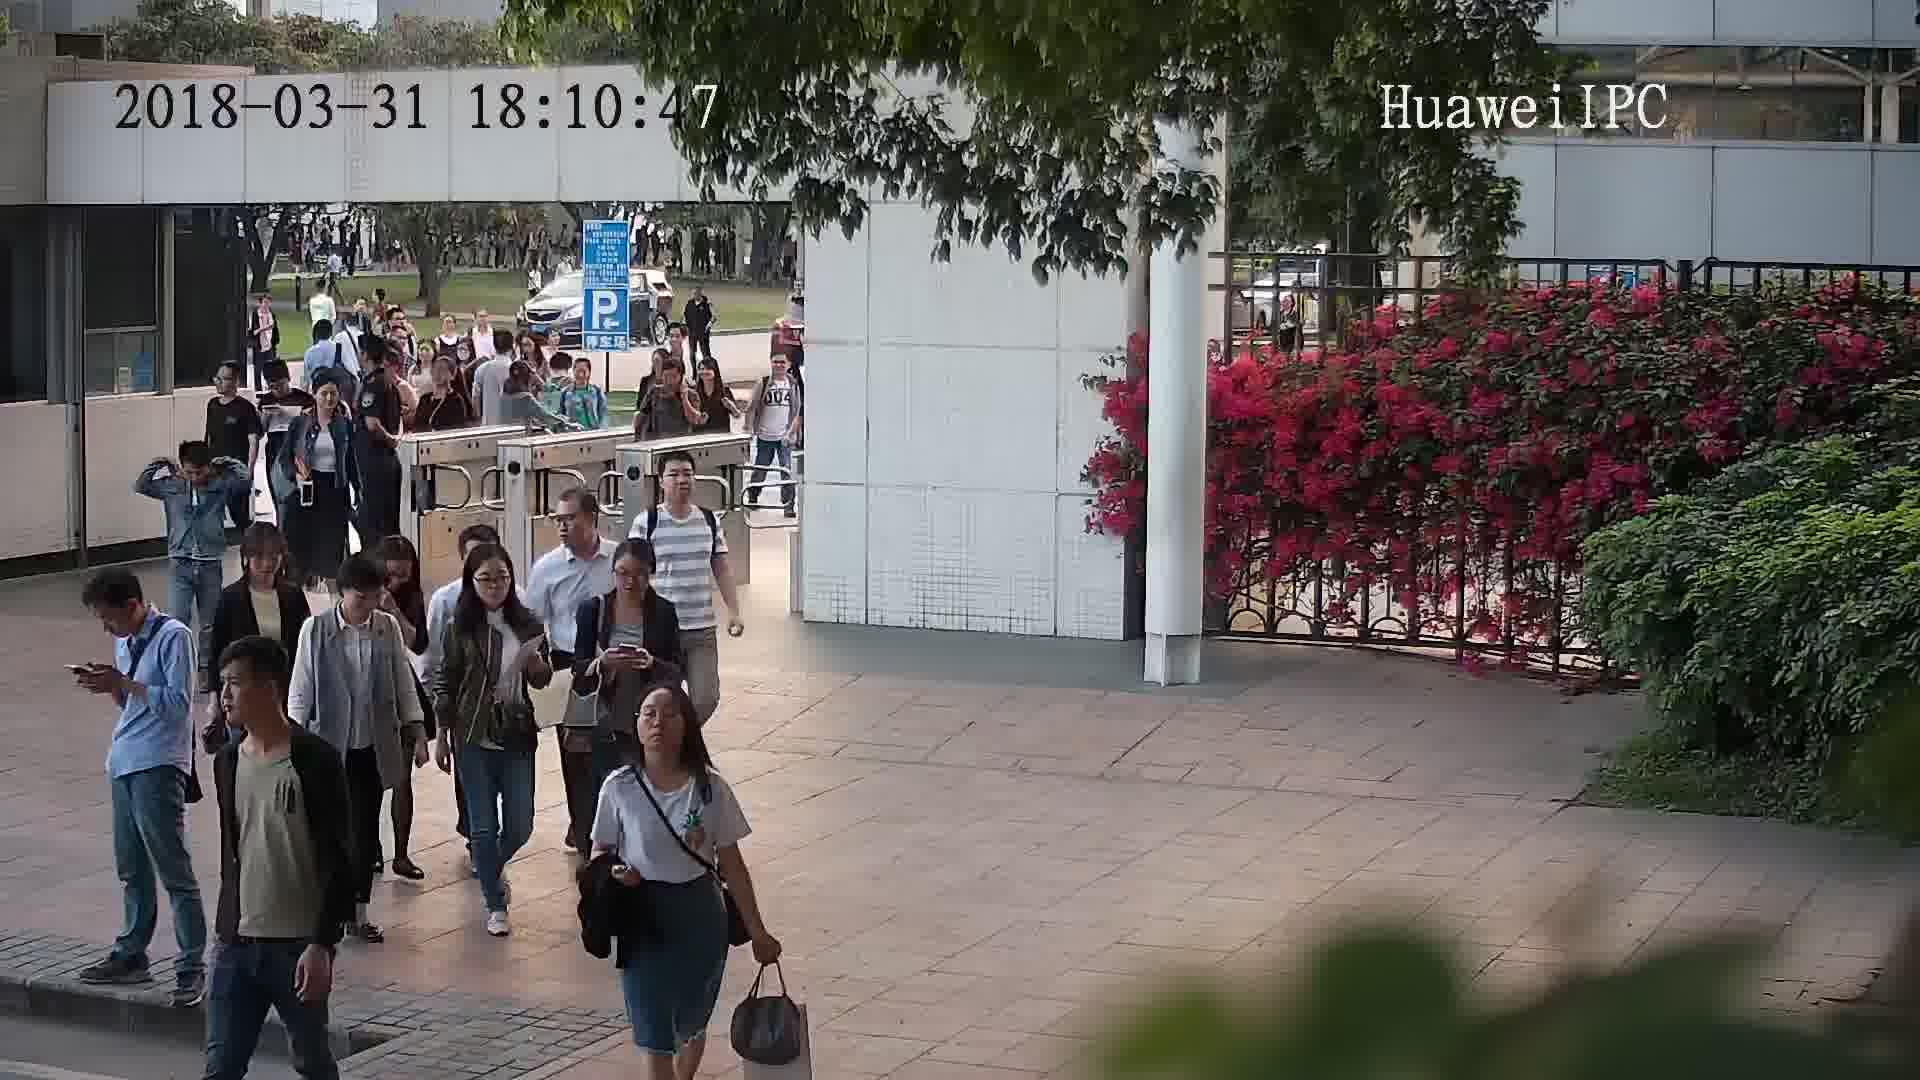face: (209, 659, 275, 725), (630, 690, 694, 754), (651, 454, 703, 511), (468, 557, 516, 605), (611, 555, 655, 599), (91, 597, 134, 640), (347, 580, 383, 616)
person: (216, 638, 337, 786), (596, 678, 727, 802), (432, 528, 548, 645), (299, 555, 405, 657), (87, 564, 190, 666), (214, 521, 308, 621), (584, 532, 677, 626), (533, 485, 615, 585), (631, 450, 717, 536), (352, 527, 424, 616), (164, 435, 238, 509), (205, 355, 259, 422), (302, 370, 355, 437), (258, 355, 314, 415), (359, 334, 403, 401), (639, 354, 689, 407), (421, 354, 466, 412), (304, 313, 350, 369), (756, 344, 803, 394), (557, 353, 603, 403), (476, 328, 517, 383), (655, 318, 695, 369), (693, 354, 733, 404), (409, 333, 446, 386), (304, 269, 340, 317), (513, 328, 549, 375), (466, 302, 497, 348), (434, 312, 467, 355), (680, 282, 720, 316), (250, 286, 280, 323)
